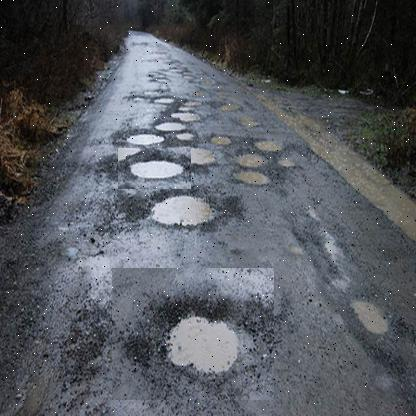pothole_water: (111, 268, 274, 401), (141, 169, 232, 249), (116, 148, 191, 190)
